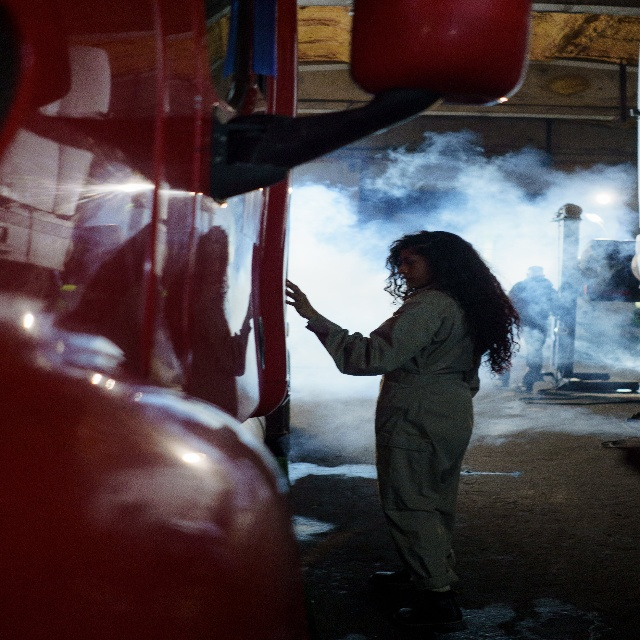Sin_guantes: (285, 278, 310, 321)
